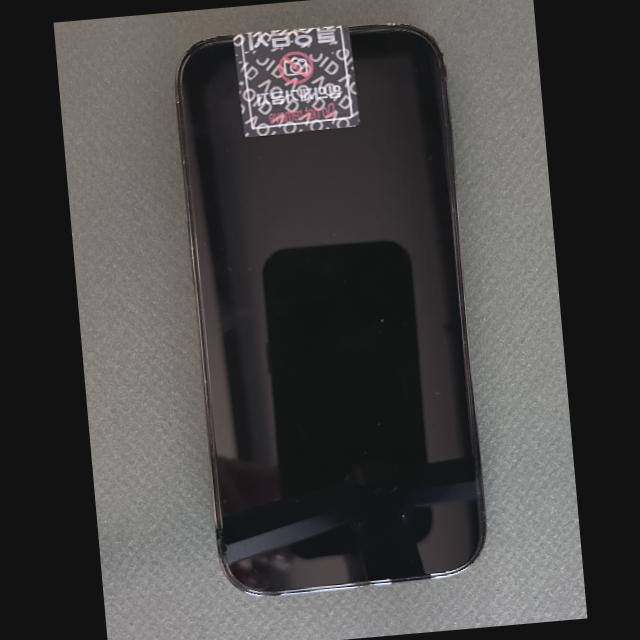phone: (175, 23, 485, 599)
sticker: (232, 23, 359, 136)
